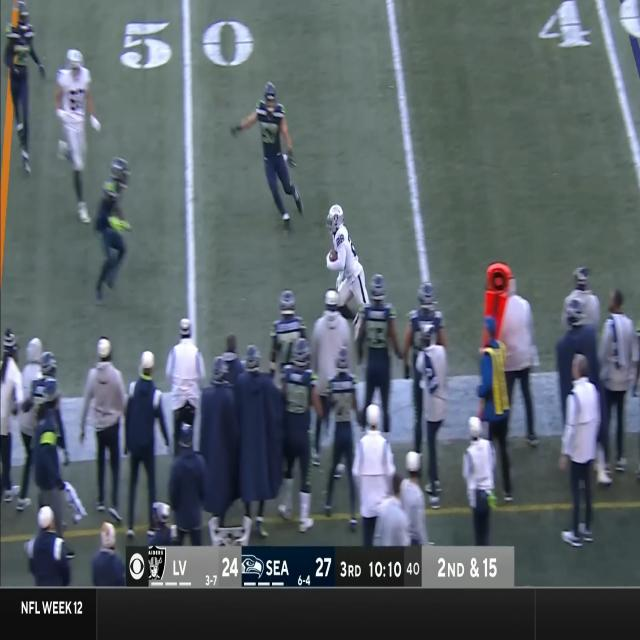football: (329, 248, 338, 265)
players: (231, 82, 306, 230), (4, 0, 46, 176), (56, 52, 98, 225), (94, 158, 133, 303), (327, 203, 368, 310)
